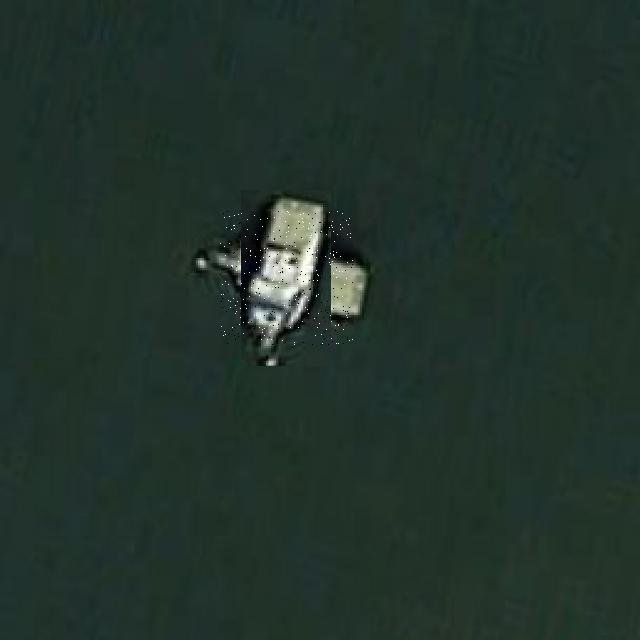boat: (220, 211, 353, 345)
